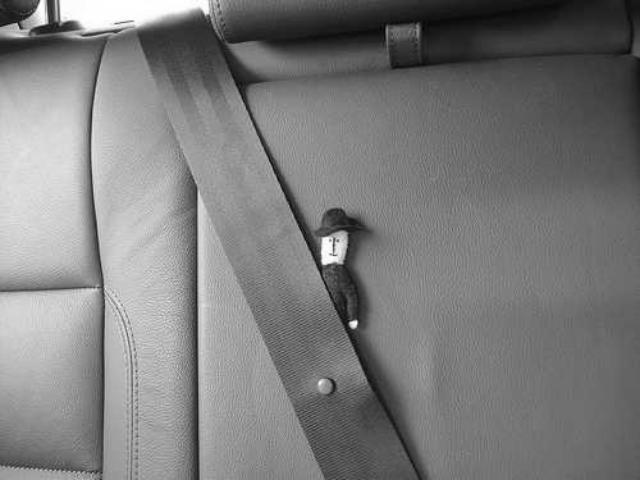Seatbelt: (135, 4, 429, 480)
